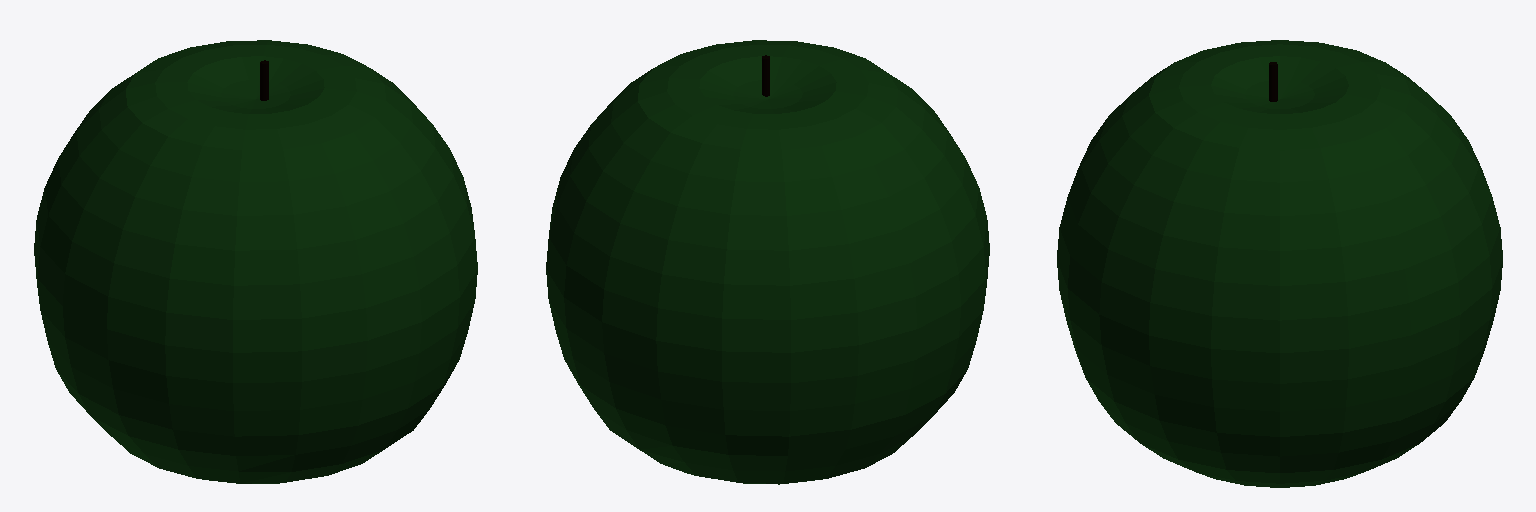
Rendered from greenApple_OBJ.obj.
The picture shows the model from 3 angles: view 1: azimuth 30°, elevation 25°; view 2: azimuth 150°, elevation 25°; view 3: azimuth 270°, elevation 25°; orthographic projection.
Visible parts, largest first — view 1: pSphere2; view 2: pSphere2; view 3: pSphere2.
Part boxes in pixels (left/top/right/bottom): pSphere2: left=34, top=40, right=477, bottom=483; pSphere2: left=546, top=40, right=989, bottom=484; pSphere2: left=1057, top=40, right=1502, bottom=487.
Bounding box in the file's own units: 4.16 × 4.01 × 4.16.